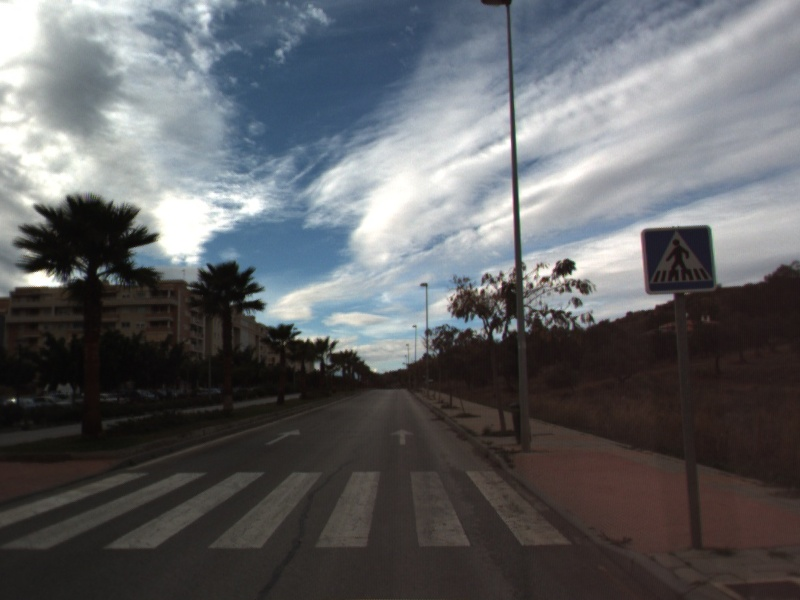STRAIGHT: (263, 427, 302, 447), (389, 426, 417, 447)
